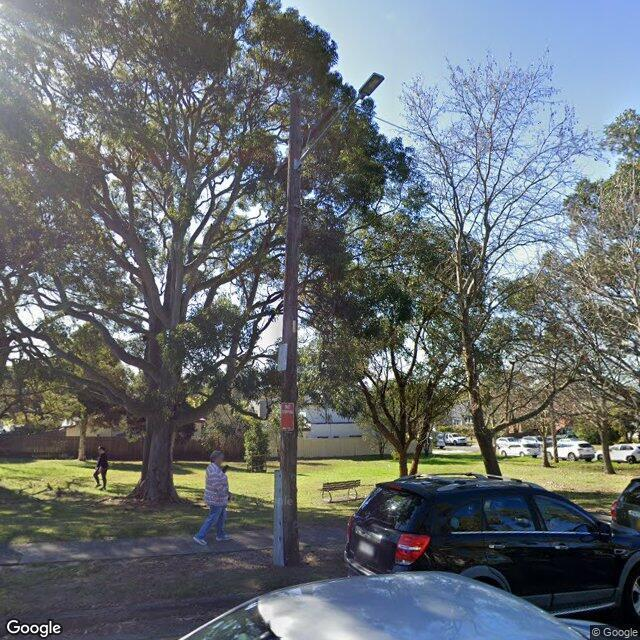crossarm: (299, 106, 339, 152)
streetlight: (298, 71, 386, 175)
timber-pole: (276, 87, 300, 570)
